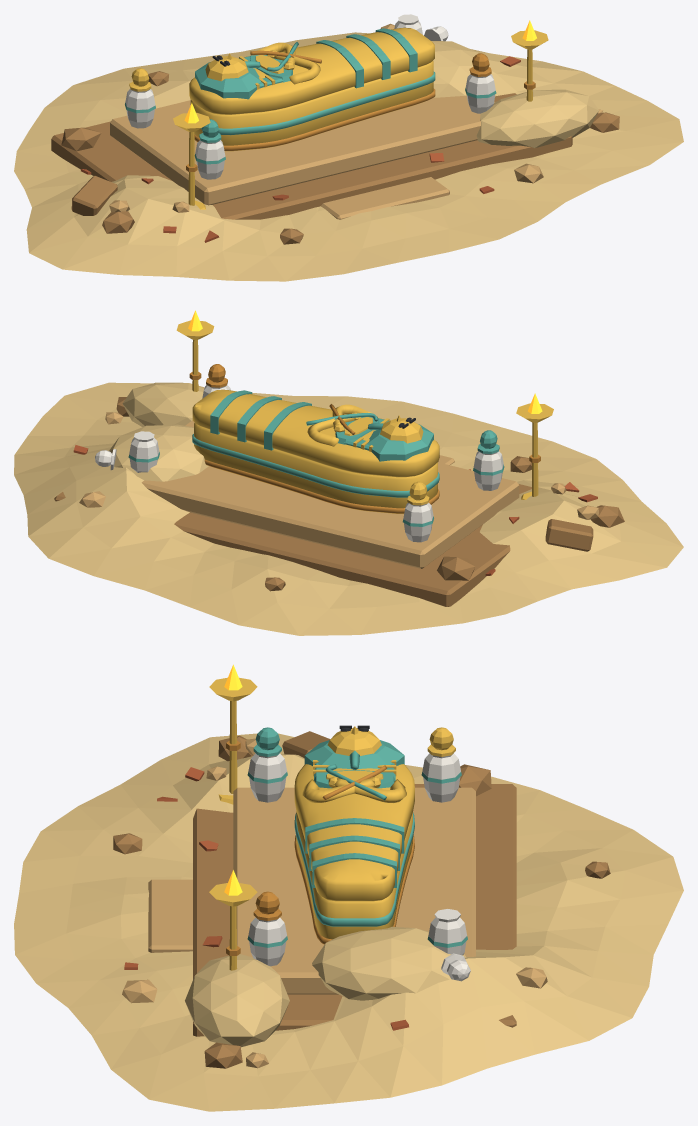
The model's file is royal-desert-sarcophagus.glb.
3 views of the same model, one above another, from view 1: azimuth 30°, elevation 25°; view 2: azimuth 150°, elevation 25°; view 3: azimuth 270°, elevation 25° (orthographic). The views are drawn at different scales.
Parts seen in each view (by area): view 1: Sand_Ground, Platform_Upper, Platform_Lower, Lid, Coffin_Base, Sand_Drift_Lower, Platform_Step, Sand_Drift, Coffin_Band, Lid_Headdress, Coffin_BaseTrim, BrokenBlock (+12 smaller); view 2: Sand_Ground, Platform_Upper, Platform_Lower, Lid, Coffin_Base, Sand_Drift, Sand_Drift_Lower, Coffin_Band, Lid_Headdress, Coffin_BaseTrim, BrokenBlock, CanopicJar_4 (+6 smaller); view 3: Sand_Ground, Platform_Upper, Platform_Lower, Lid, Sand_Drift, Sand_Drift_Lower, Platform_Step, Coffin_Base, Lid_Headdress, CanopicJar_1, CanopicJar_2, CanopicJar_3 (+11 smaller).
Boxes of the visible parts, x1=… form: Sand_Ground: x1=14, y1=32, x2=683, y2=281; Platform_Upper: x1=110, y1=95, x2=494, y2=205; Platform_Lower: x1=51, y1=93, x2=572, y2=219; Lid: x1=189, y1=27, x2=434, y2=114; Coffin_Base: x1=190, y1=61, x2=433, y2=151; Sand_Drift_Lower: x1=476, y1=89, x2=599, y2=147; Platform_Step: x1=321, y1=177, x2=449, y2=219; Sand_Drift: x1=431, y1=41, x2=478, y2=97; Coffin_Band: x1=201, y1=71, x2=435, y2=135; Lid_Headdress: x1=195, y1=62, x2=261, y2=99; Coffin_BaseTrim: x1=194, y1=88, x2=435, y2=150; BrokenBlock: x1=71, y1=176, x2=117, y2=215; Sand_Ground: x1=14, y1=382, x2=683, y2=635; Platform_Upper: x1=141, y1=420, x2=519, y2=568; Platform_Lower: x1=54, y1=484, x2=531, y2=606; Lid: x1=192, y1=389, x2=439, y2=477; Coffin_Base: x1=194, y1=423, x2=437, y2=513; Sand_Drift: x1=109, y1=424, x2=208, y2=481; Sand_Drift_Lower: x1=122, y1=382, x2=204, y2=426; Coffin_Band: x1=192, y1=434, x2=439, y2=497; Lid_Headdress: x1=367, y1=424, x2=433, y2=461; Coffin_BaseTrim: x1=204, y1=459, x2=439, y2=513; BrokenBlock: x1=545, y1=519, x2=593, y2=551; CanopicJar_4: x1=129, y1=431, x2=159, y2=472; Sand_Ground: x1=14, y1=733, x2=683, y2=1111; Platform_Upper: x1=233, y1=787, x2=475, y2=994; Platform_Lower: x1=193, y1=784, x2=516, y2=1036; Lid: x1=294, y1=764, x2=414, y2=901; Sand_Drift: x1=312, y1=926, x2=466, y2=1000; Sand_Drift_Lower: x1=185, y1=954, x2=289, y2=1047; Platform_Step: x1=148, y1=879, x2=192, y2=952; Coffin_Base: x1=296, y1=812, x2=412, y2=939; Lid_Headdress: x1=304, y1=740, x2=404, y2=769; CanopicJar_1: x1=422, y1=753, x2=460, y2=802; CanopicJar_2: x1=248, y1=753, x2=286, y2=802; CanopicJar_3: x1=248, y1=917, x2=286, y2=966.
Size of the model in its own units: 22.19 by 4.29 by 16.56.
